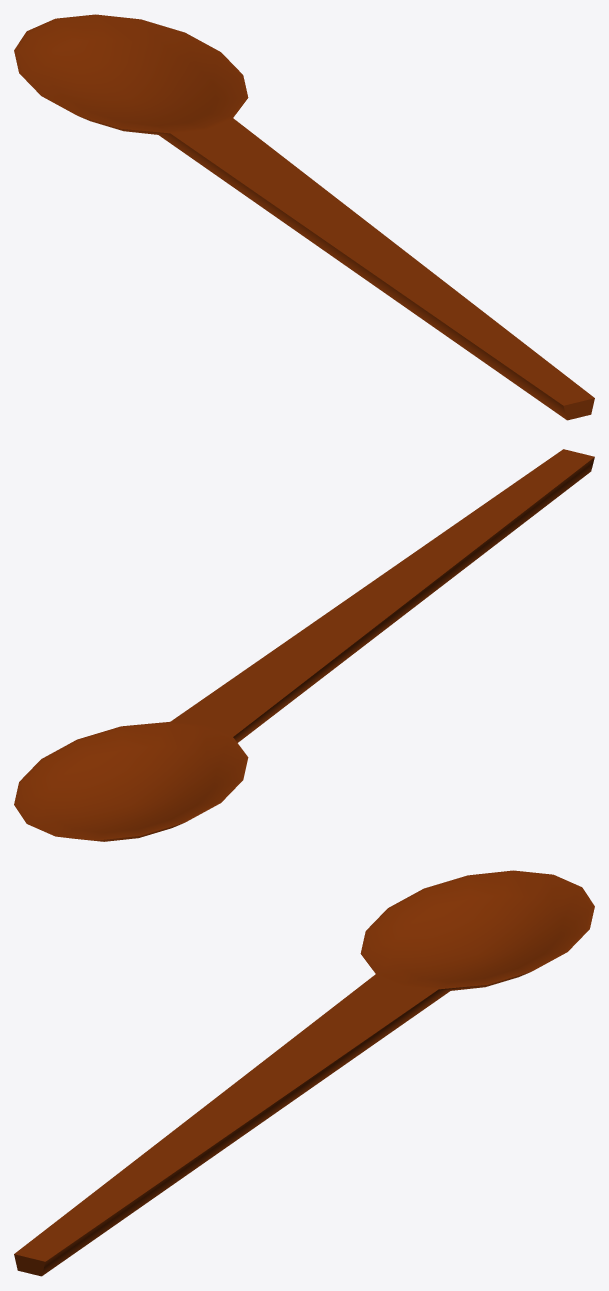
File: SM_Spoon.fbx
3 views of the same model, one above another, from view 1: azimuth 30°, elevation 25°; view 2: azimuth 150°, elevation 25°; view 3: azimuth 330°, elevation 25° (orthographic).
Visible parts, largest first — view 1: SM_Spoon; view 2: SM_Spoon; view 3: SM_Spoon.
Part boxes in pixels (box(x1,y1,x2,y2)): SM_Spoon: box(14, 14, 594, 420); SM_Spoon: box(14, 449, 594, 841); SM_Spoon: box(14, 870, 594, 1276).
Size of the model in its own units: 11.12 by 1.91 by 56.08.
